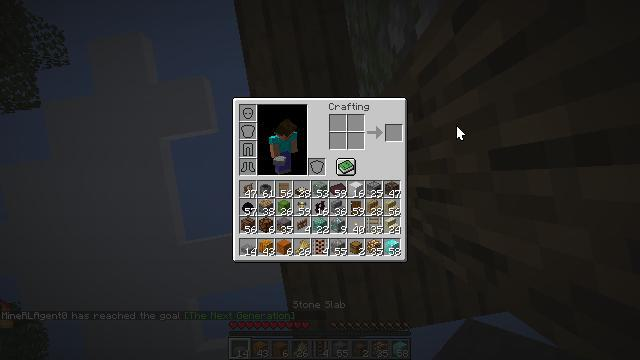cursor: (456, 125, 466, 141)
